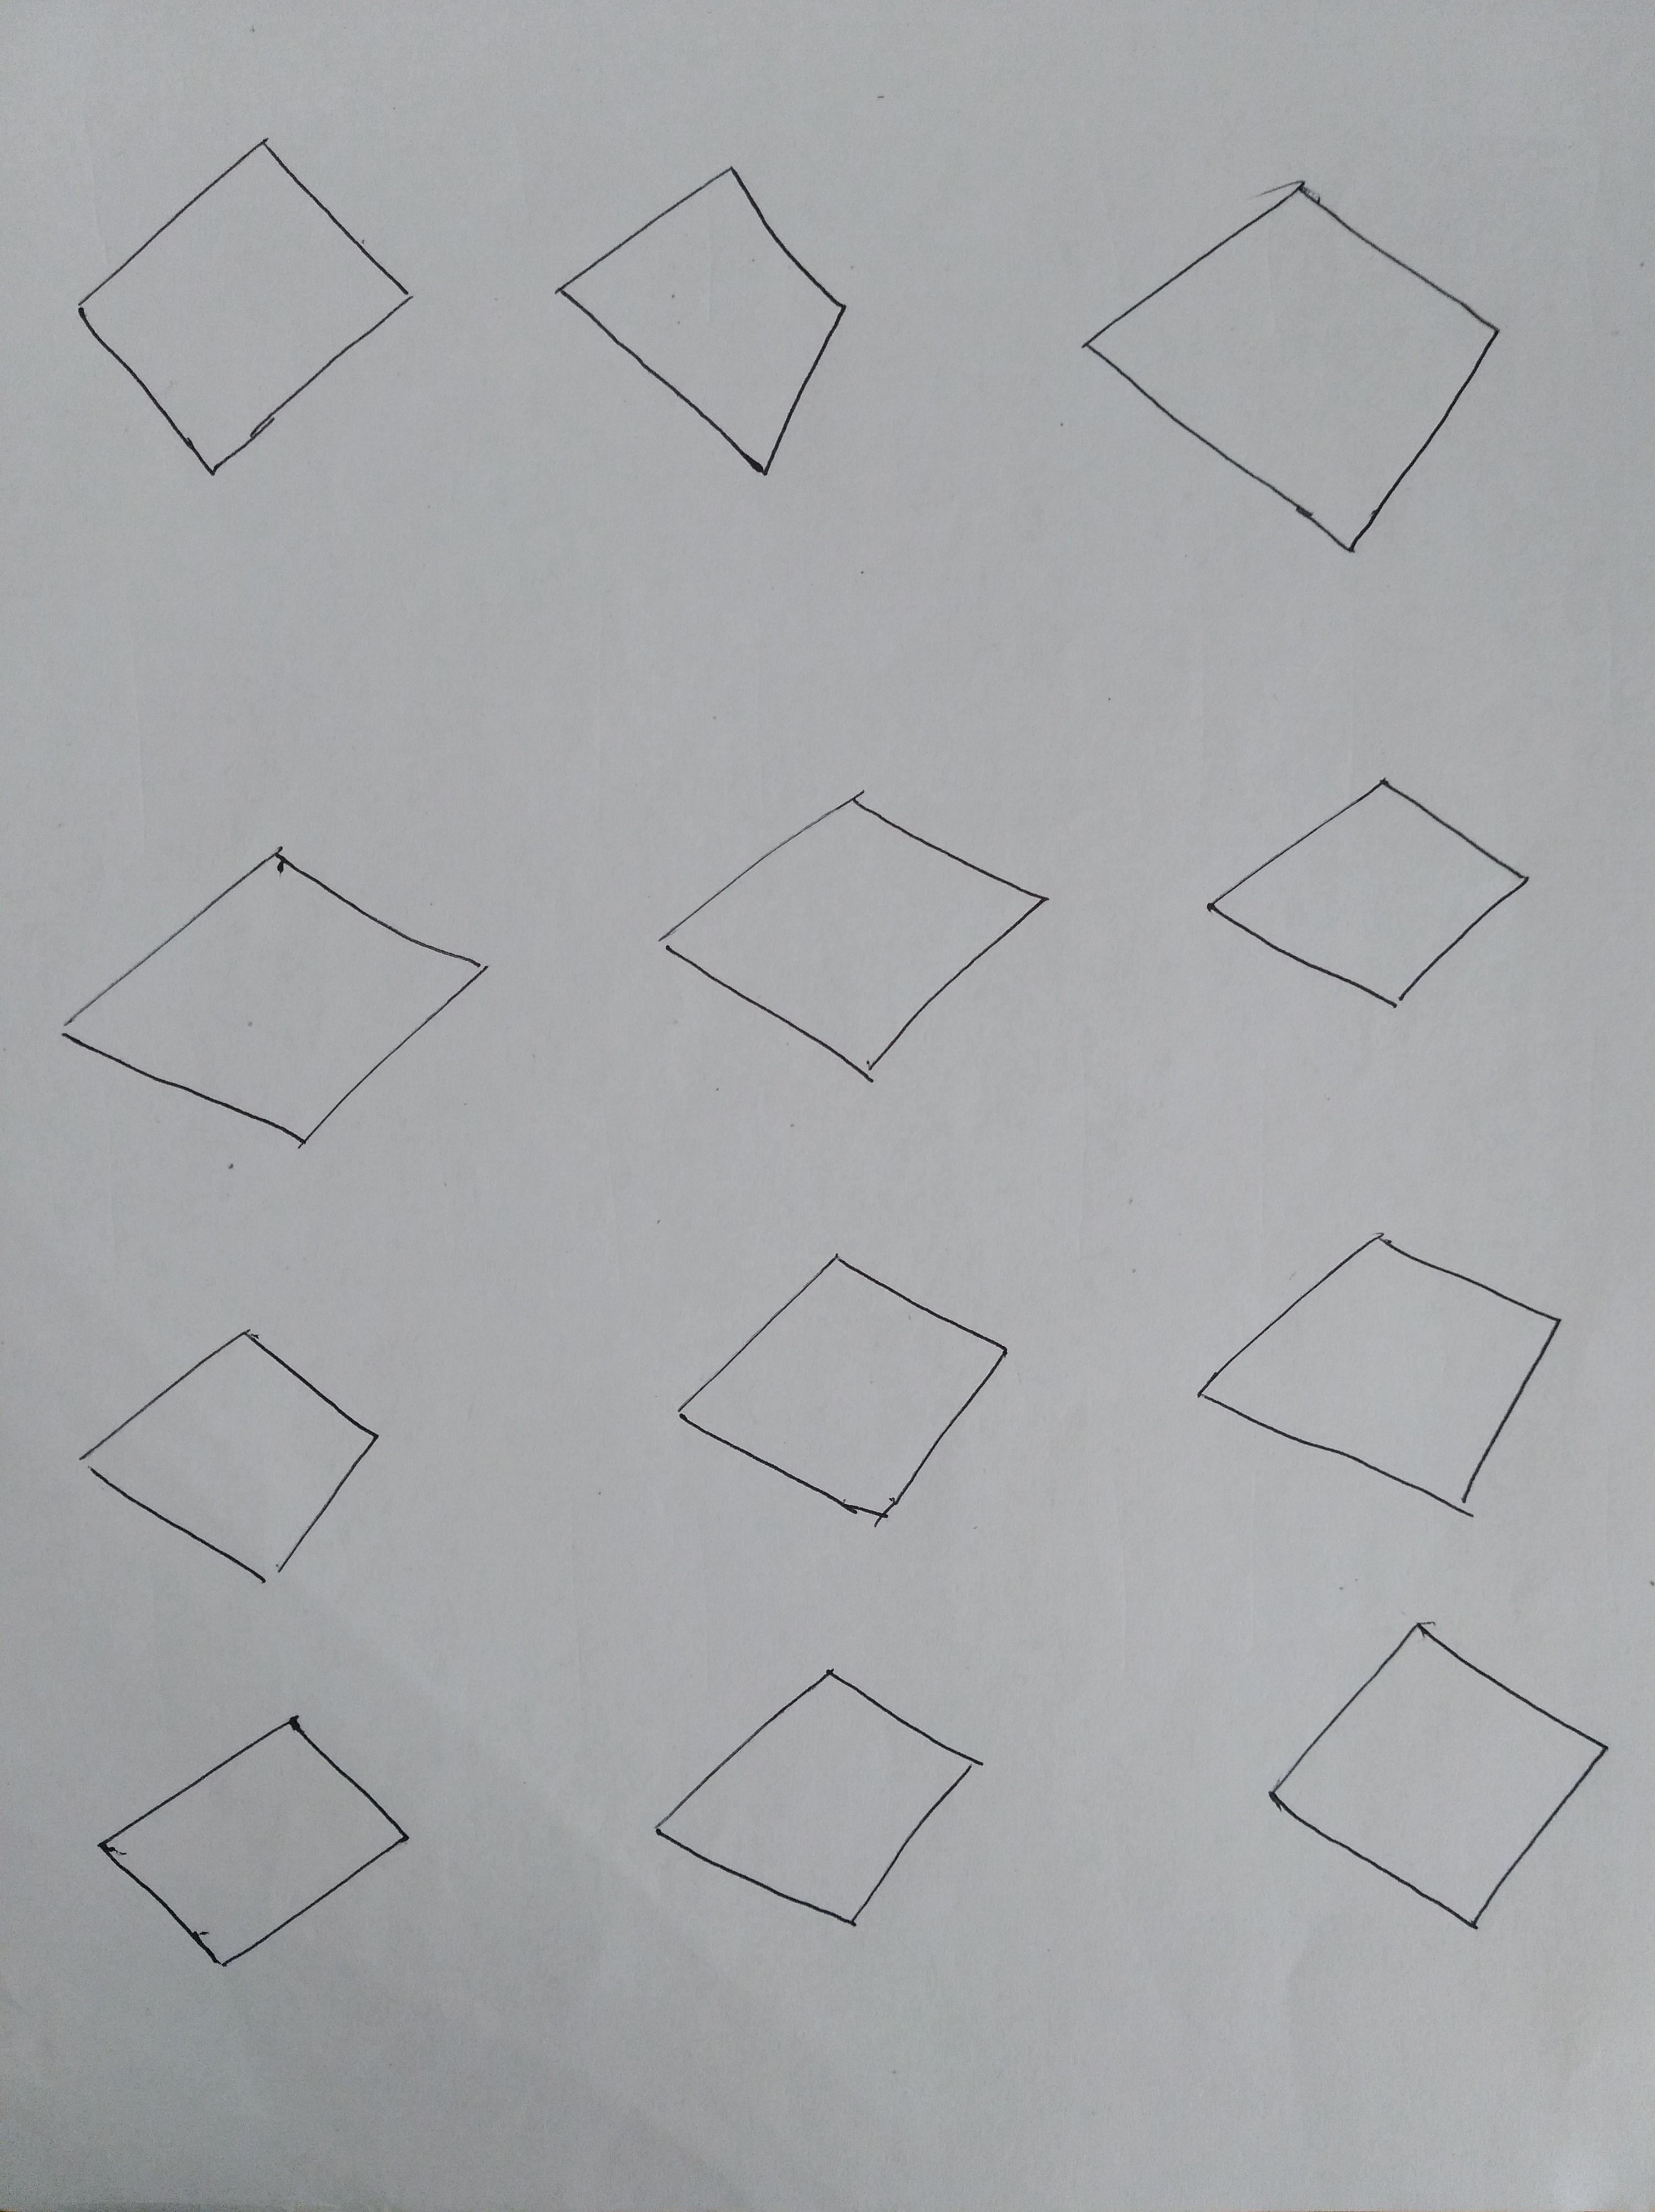decision: (1048, 122, 1542, 605), (33, 801, 527, 1178), (50, 87, 449, 509), (626, 756, 1087, 1098), (1224, 1583, 1631, 1953), (530, 94, 887, 516), (1179, 1202, 1598, 1538), (636, 1230, 1076, 1548), (619, 1640, 1027, 1957), (64, 1679, 442, 2007), (61, 1284, 410, 1623), (1182, 728, 1563, 1037)
